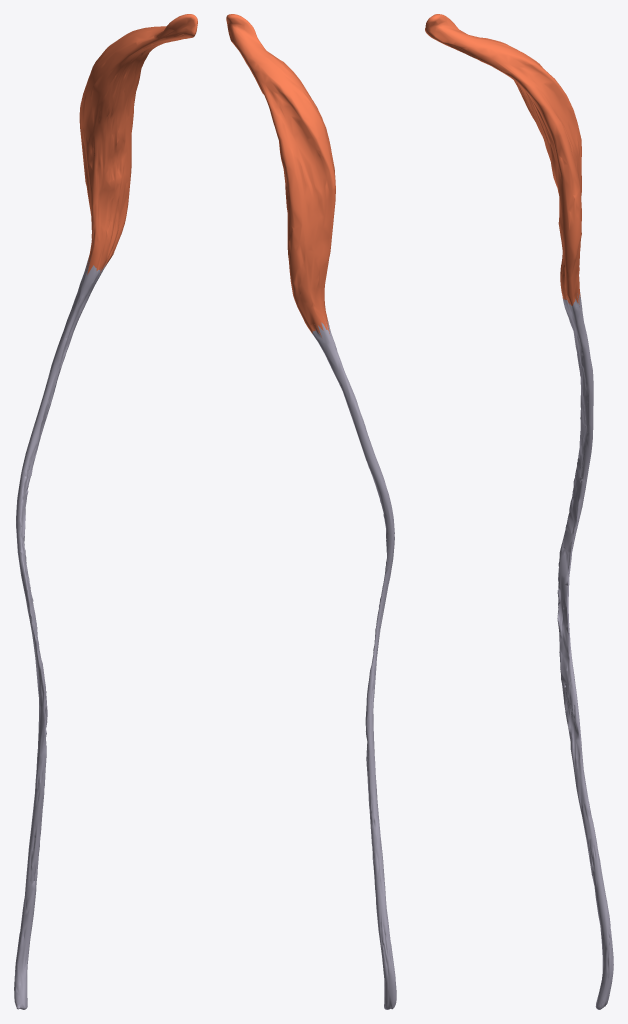
Rendered from Plantaris_left.glb.
The picture shows the model from 3 angles, left to right: view 1: azimuth 30°, elevation 25°; view 2: azimuth 210°, elevation 25°; view 3: azimuth 270°, elevation 25°; orthographic projection. The views are drawn at different scales.
Parts seen in each view (by area): view 1: Plantaris_muscle.l_Generated_Mesh_From_X3D.294; view 2: Plantaris_muscle.l_Generated_Mesh_From_X3D.294; view 3: Plantaris_muscle.l_Generated_Mesh_From_X3D.294.
Boxes of the visible parts, left/top/right/bottom form: Plantaris_muscle.l_Generated_Mesh_From_X3D.294: left=14, top=14, right=197, bottom=1009; Plantaris_muscle.l_Generated_Mesh_From_X3D.294: left=226, top=14, right=396, bottom=1009; Plantaris_muscle.l_Generated_Mesh_From_X3D.294: left=425, top=14, right=613, bottom=1009.
Bounding box in the file's own units: 0.0549 × 0.4823 × 0.0796.
